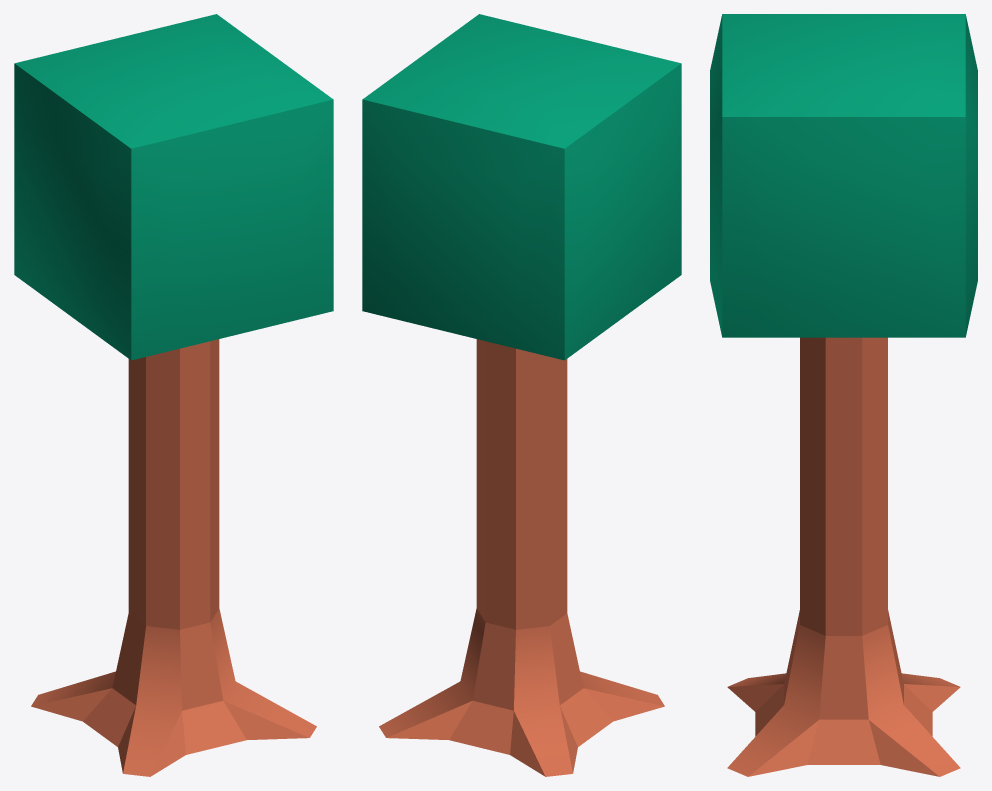
3 views of the same model, side by side, from view 1: azimuth 30°, elevation 25°; view 2: azimuth 150°, elevation 25°; view 3: azimuth 270°, elevation 25° (orthographic). The views are drawn at different scales.
Parts seen in each view (by area): view 1: mergedBlocks; view 2: mergedBlocks; view 3: mergedBlocks.
Part boxes in pixels (<box>): mergedBlocks: <box>14,14,333,776</box>; mergedBlocks: <box>362,14,681,776</box>; mergedBlocks: <box>710,14,977,776</box>.
Size of the model in its own units: 11 by 30.5 by 11.
